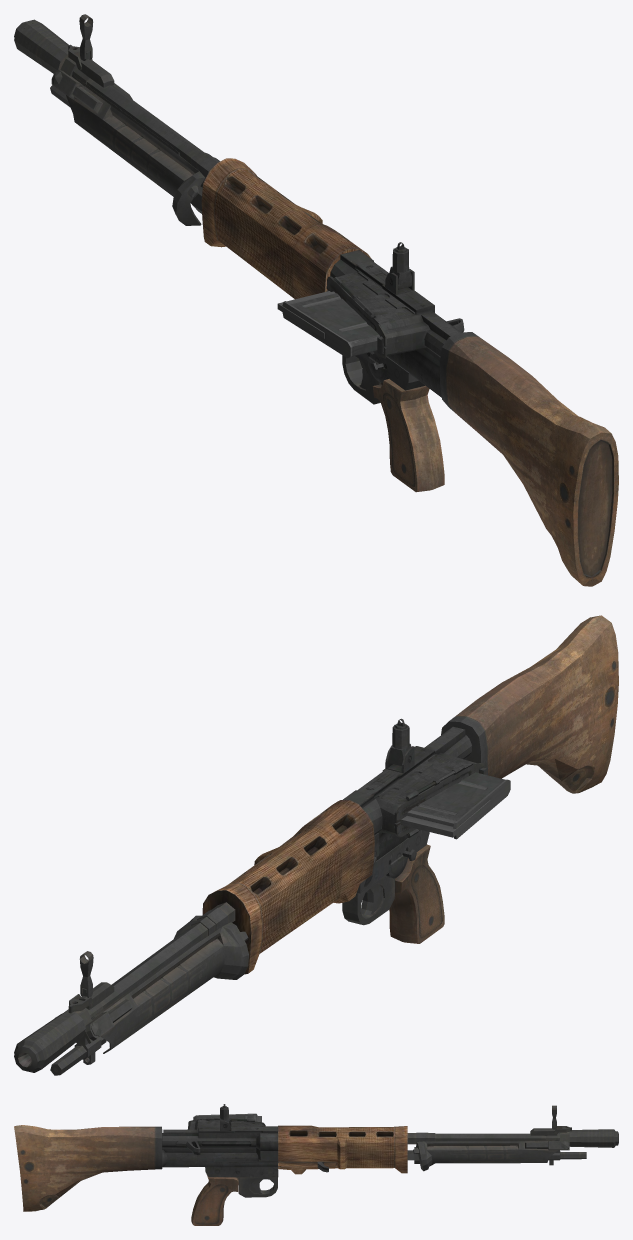
The picture shows the model from 3 angles, top to bottom: view 1: azimuth 30°, elevation 25°; view 2: azimuth 150°, elevation 25°; view 3: azimuth 270°, elevation 25°; orthographic projection. The views are drawn at different scales.
Visible parts, largest first — view 1: 0001_FG42_MP, 0000_FG42_MP, Object001; view 2: 0001_FG42_MP, 0000_FG42_MP, Object001; view 3: 0001_FG42_MP, 0000_FG42_MP, Object001.
Part boxes in pixels (x1=…): 0001_FG42_MP: x1=14, y1=14, x2=618, y2=586; 0000_FG42_MP: x1=201, y1=158, x2=464, y2=397; Object001: x1=277, y1=291, x2=379, y2=358; 0001_FG42_MP: x1=14, y1=615, x2=618, y2=1075; 0000_FG42_MP: x1=202, y1=718, x2=487, y2=974; Object001: x1=400, y1=772, x2=510, y2=839; 0001_FG42_MP: x1=14, y1=1105, x2=618, y2=1225; 0000_FG42_MP: x1=162, y1=1104, x2=407, y2=1177; Object001: x1=193, y1=1113, x2=261, y2=1121.
Size of the model in its own units: 3.39 by 5.43 by 25.02.
